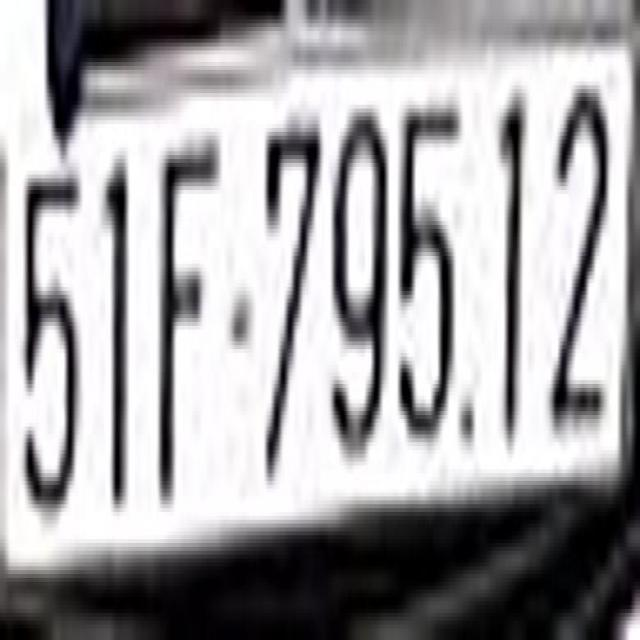1: (495, 101, 522, 458), (104, 151, 127, 524)
2: (546, 89, 606, 431)
5: (23, 163, 84, 524), (400, 89, 458, 442)
7: (262, 112, 320, 485)
9: (329, 86, 388, 473)
F: (160, 128, 218, 508)
